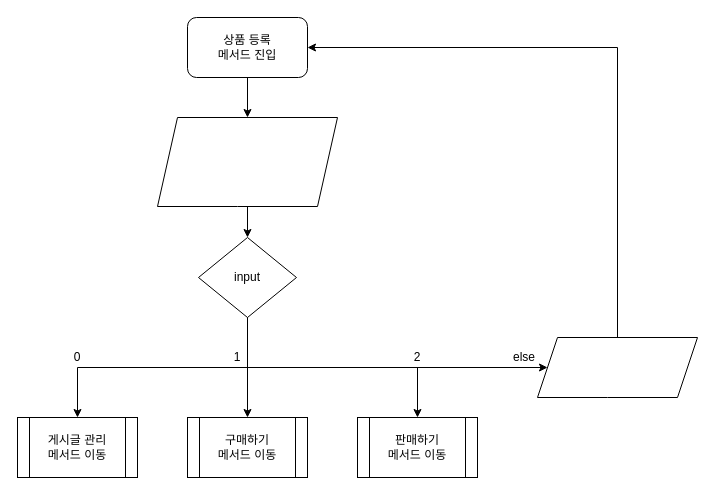
The diagram is 715 pixels wide and 495 high, and some of its shapes have lost their labels. The shapes that lost their labels are listed below. From the top down, each one's centre as x and y in pixels, then its label:
(x=247, y=161): 1. 구매하기 2. 판매하기 0. 뒤로가기 ■ 입력 : keyboard input
(x=617, y=367): 잘못입력하셨습니다. 다시 입력해주세요.
